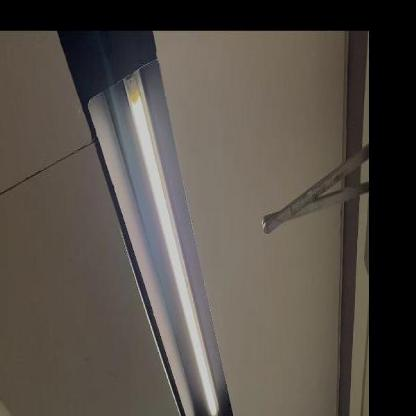light_on: (114, 65, 226, 415)
